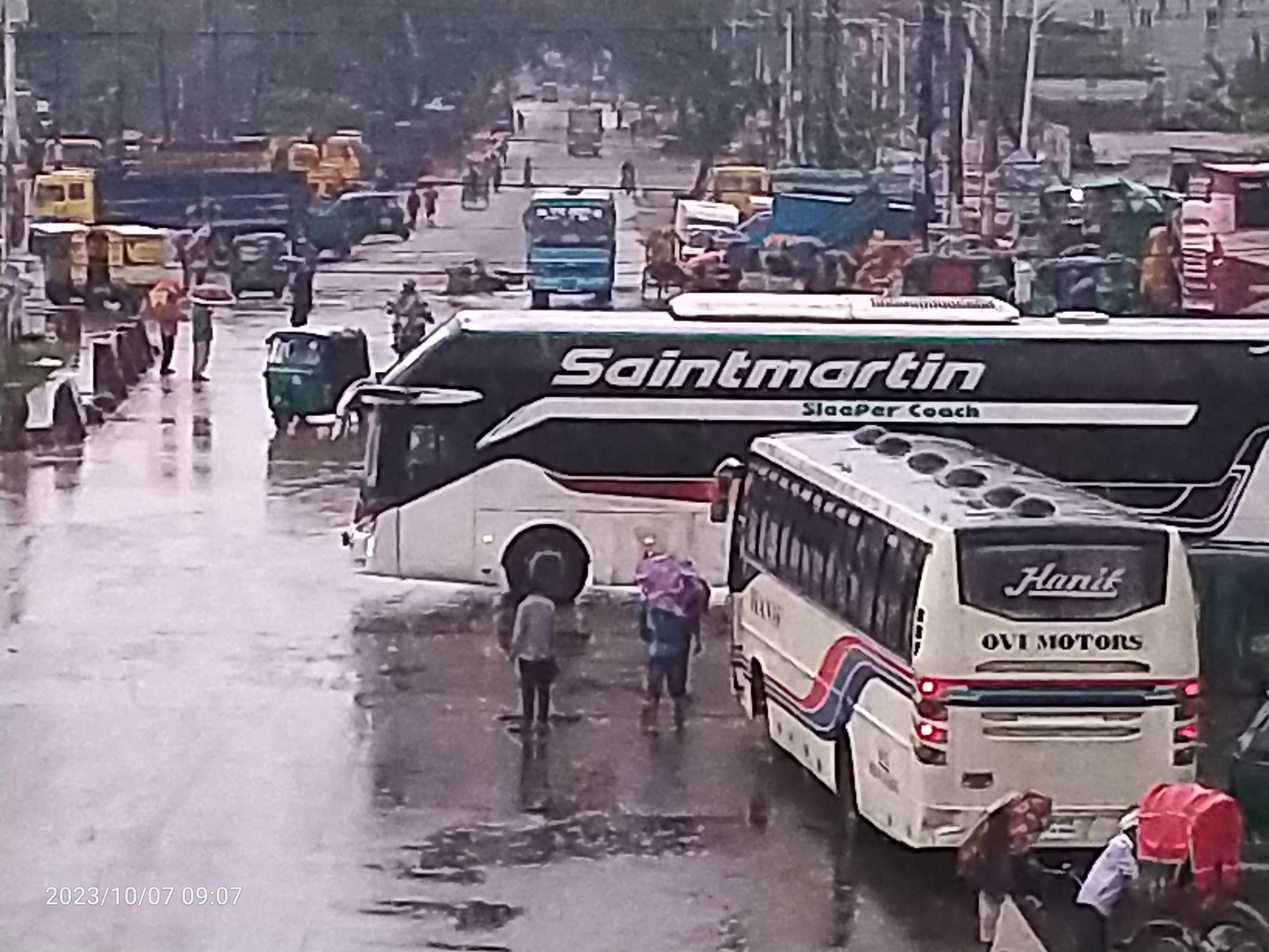Bike: (384, 258, 449, 367)
Bus: (323, 272, 1269, 646), (701, 391, 1225, 858), (1157, 137, 1269, 335), (491, 172, 630, 315)
Car: (962, 784, 1257, 952)
Truck: (4, 149, 302, 245), (204, 105, 381, 198), (681, 154, 893, 226)
